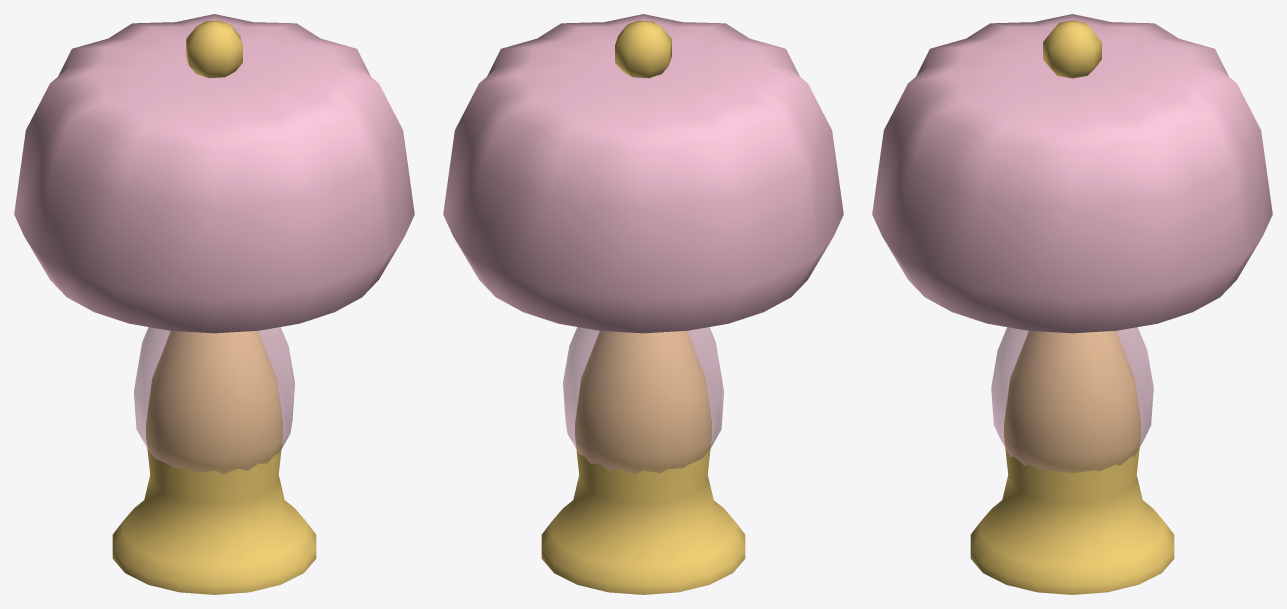
Rendered from lamp_table_pink.glb.
The picture shows the model from 3 angles, left to right: view 1: azimuth 30°, elevation 25°; view 2: azimuth 150°, elevation 25°; view 3: azimuth 270°, elevation 25°; orthographic projection.
Parts seen in each view (by area): view 1: lamp_table_pink; view 2: lamp_table_pink; view 3: lamp_table_pink.
Boxes of the visible parts, x1=… form: lamp_table_pink: x1=14, y1=14, x2=414, y2=594; lamp_table_pink: x1=443, y1=14, x2=843, y2=594; lamp_table_pink: x1=872, y1=14, x2=1272, y2=594.
Size of the model in its own units: 0.3881 by 0.57 by 0.3881.
